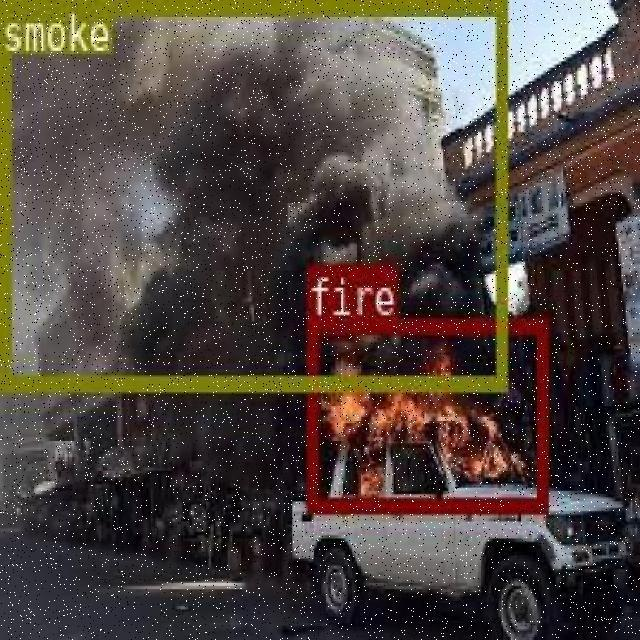smoke: (0, 0, 506, 386)
